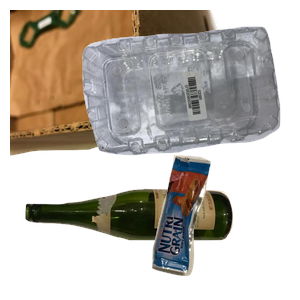cardboard: (10, 10, 237, 158)
glass: (23, 186, 249, 300)
plastic: (80, 24, 300, 172)
trash: (149, 152, 300, 300)
